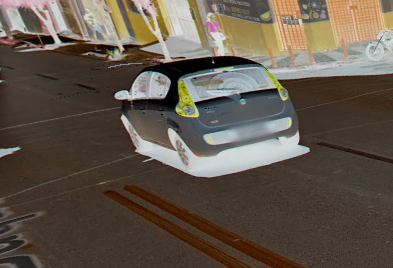car: (110, 47, 306, 173)
